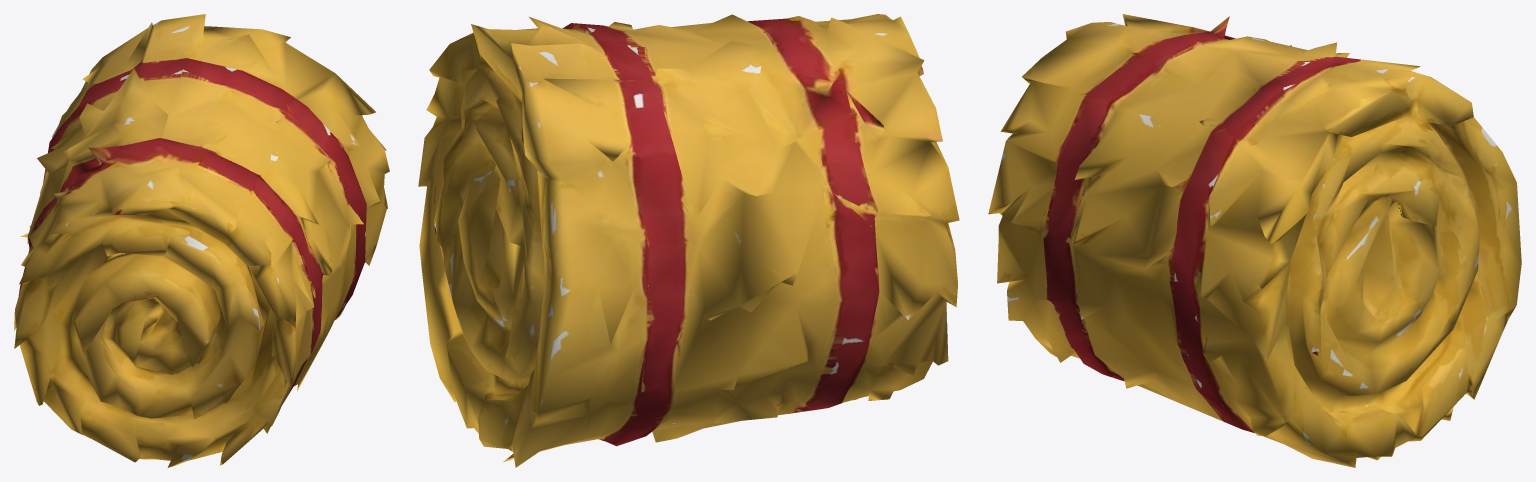
Rendered from dec_hay.glb.
3 renders of one model, left to right at view 1: azimuth 30°, elevation 25°; view 2: azimuth 150°, elevation 25°; view 3: azimuth 270°, elevation 25°, orthographic. The views are drawn at different scales.
Parts seen in each view (by area): view 1: BakeLow; view 2: BakeLow; view 3: BakeLow.
Part boxes in pixels (x1,y1,x2,y2): BakeLow: (14, 14, 389, 467); BakeLow: (418, 14, 959, 467); BakeLow: (988, 14, 1521, 467).
Bounding box in the file's own units: 0.8881 × 0.6832 × 0.8996.
Materials: 1 (1 with a texture image).
